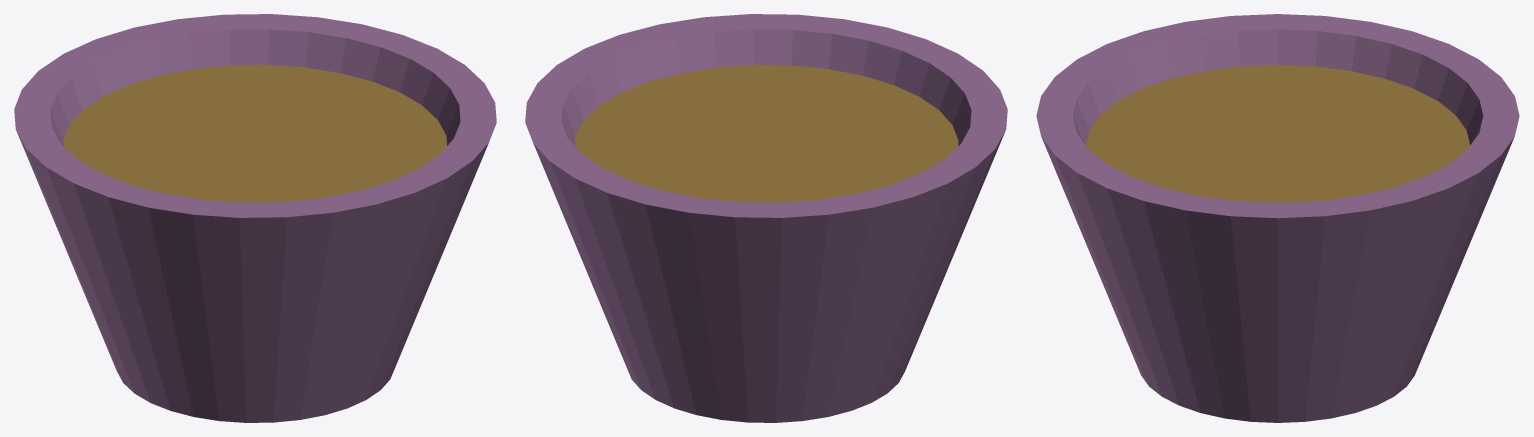
The model's file is plantpot.fbx.
3 views of the same model, side by side, from view 1: azimuth 30°, elevation 25°; view 2: azimuth 150°, elevation 25°; view 3: azimuth 270°, elevation 25° (orthographic).
Parts seen in each view (by area): view 1: Cone; view 2: Cone; view 3: Cone.
Part boxes in pixels (x1=…): Cone: x1=14, y1=14, x2=496, y2=422; Cone: x1=525, y1=14, x2=1007, y2=422; Cone: x1=1036, y1=14, x2=1519, y2=422.
Size of the model in its own units: 200 by 113 by 200.
